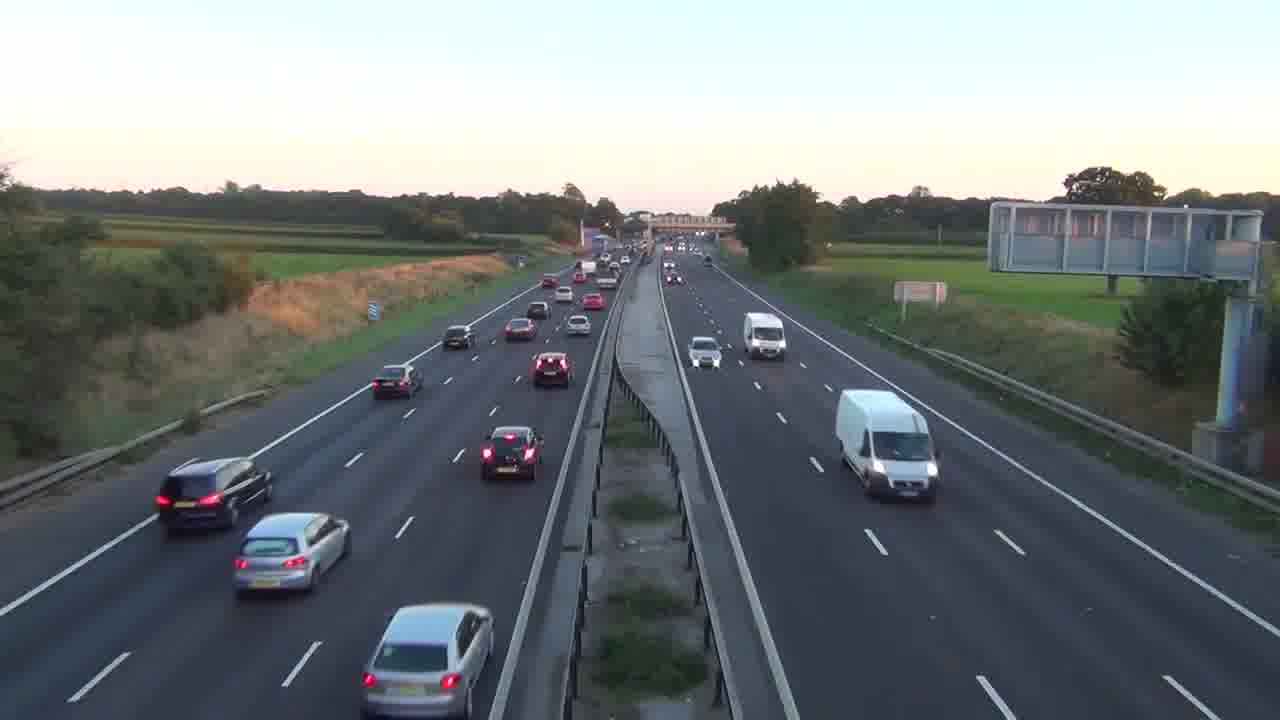car: (357, 602, 495, 718), (229, 511, 351, 596), (153, 456, 274, 536), (370, 364, 420, 400), (530, 351, 574, 389), (689, 336, 723, 369), (503, 317, 537, 341), (444, 324, 470, 350)
truck: (834, 388, 942, 503), (743, 312, 787, 362)
